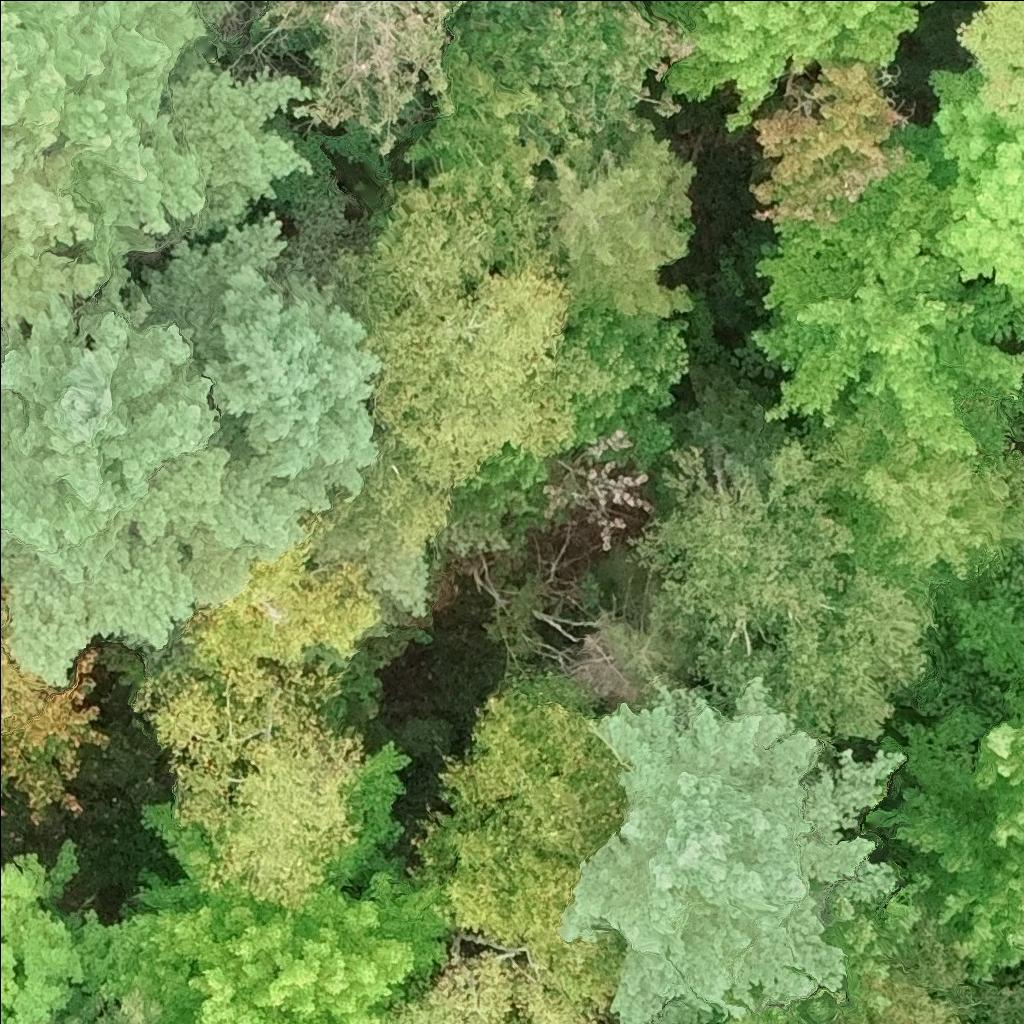crown: (0, 207, 325, 695), (555, 673, 908, 1023), (306, 172, 616, 560), (0, 0, 318, 331), (735, 148, 1023, 461), (402, 668, 622, 1022), (401, 0, 702, 212), (131, 656, 374, 911), (76, 868, 451, 1023), (622, 433, 860, 652), (863, 667, 1023, 987), (201, 257, 383, 520), (802, 388, 1023, 594), (698, 565, 940, 749), (640, 0, 937, 132), (528, 108, 696, 320), (709, 869, 938, 1023), (254, 0, 482, 146), (892, 63, 1023, 311), (173, 529, 381, 683), (744, 53, 911, 224), (0, 598, 110, 825), (569, 304, 691, 473), (0, 838, 105, 1023), (846, 917, 1023, 1023), (390, 951, 595, 1023), (542, 428, 657, 554), (326, 736, 414, 895), (310, 525, 433, 620), (124, 799, 207, 910), (955, 0, 1023, 127), (470, 447, 551, 490), (36, 993, 148, 1023), (0, 800, 10, 817), (1023, 326, 1023, 327)
